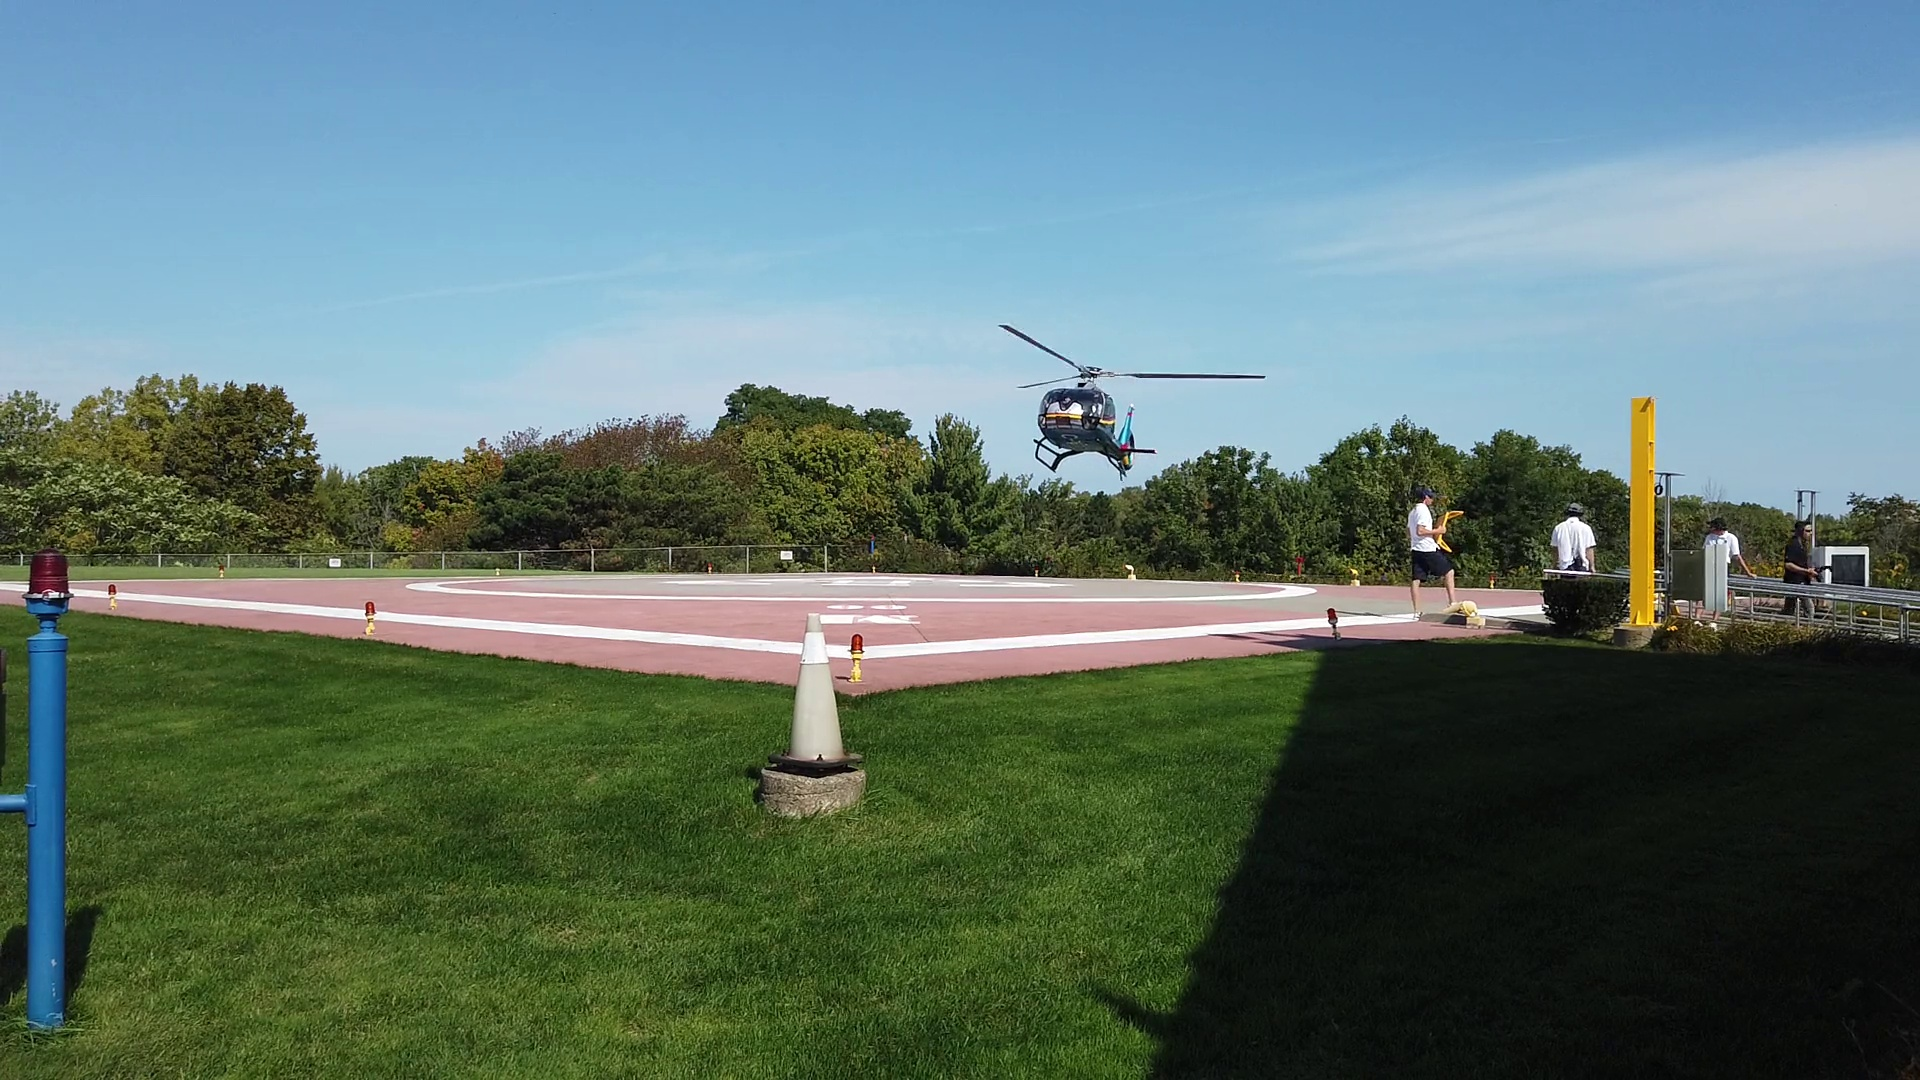heli: (994, 319, 1269, 476)
